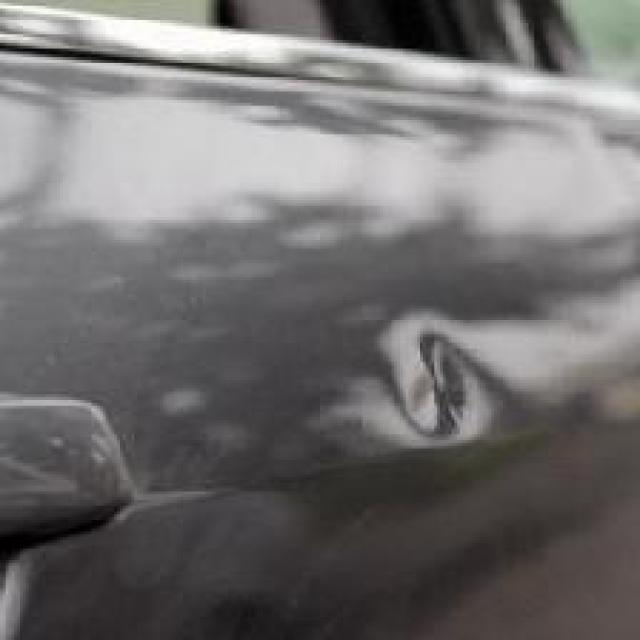door_dent_minor: (303, 249, 523, 446)
